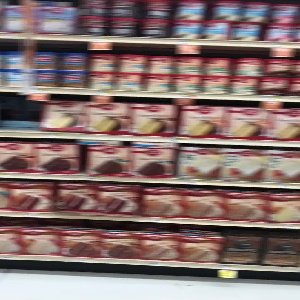void: (1, 95, 42, 137)
